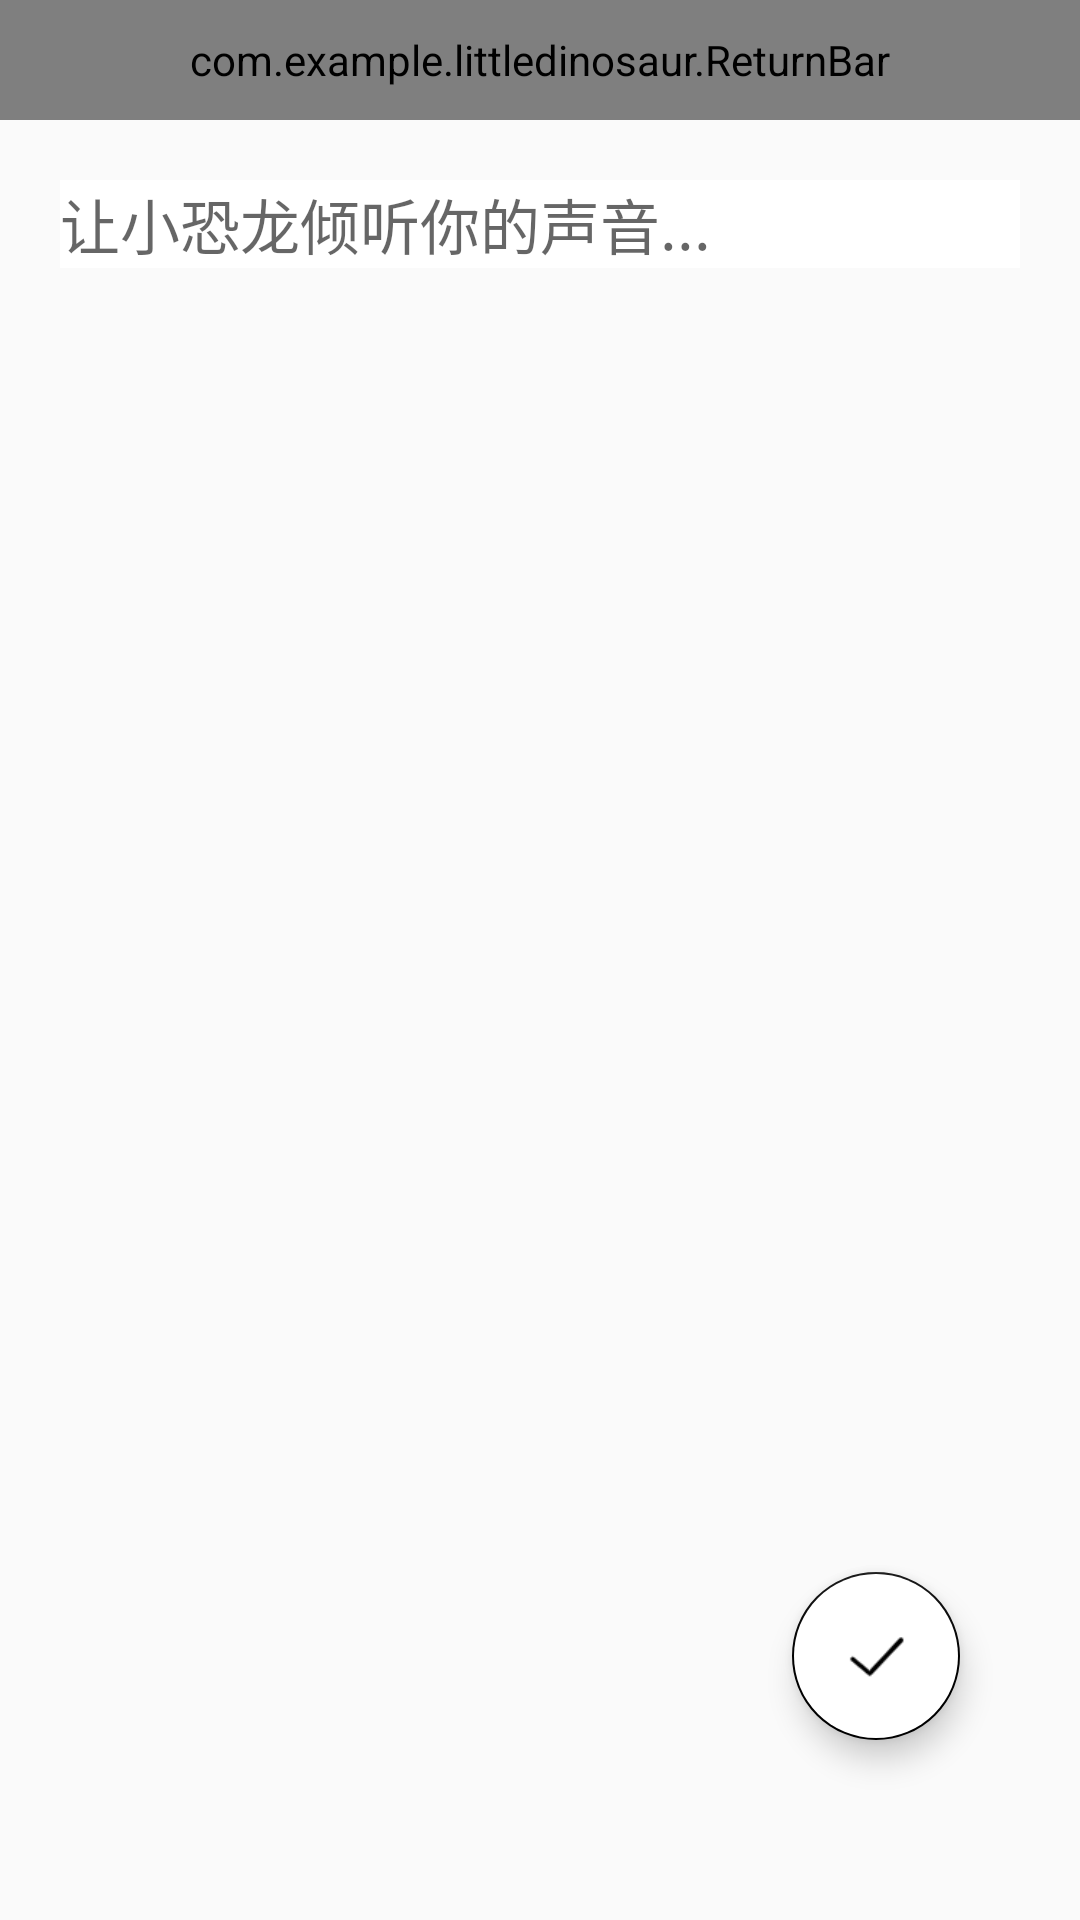

Icon click points for this 1080x1920 phone screenshot, format [x,y]:
commit: [876,1656]
